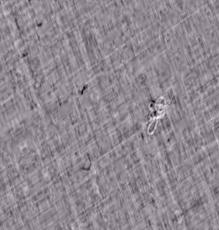snag: (141, 92, 170, 137)
